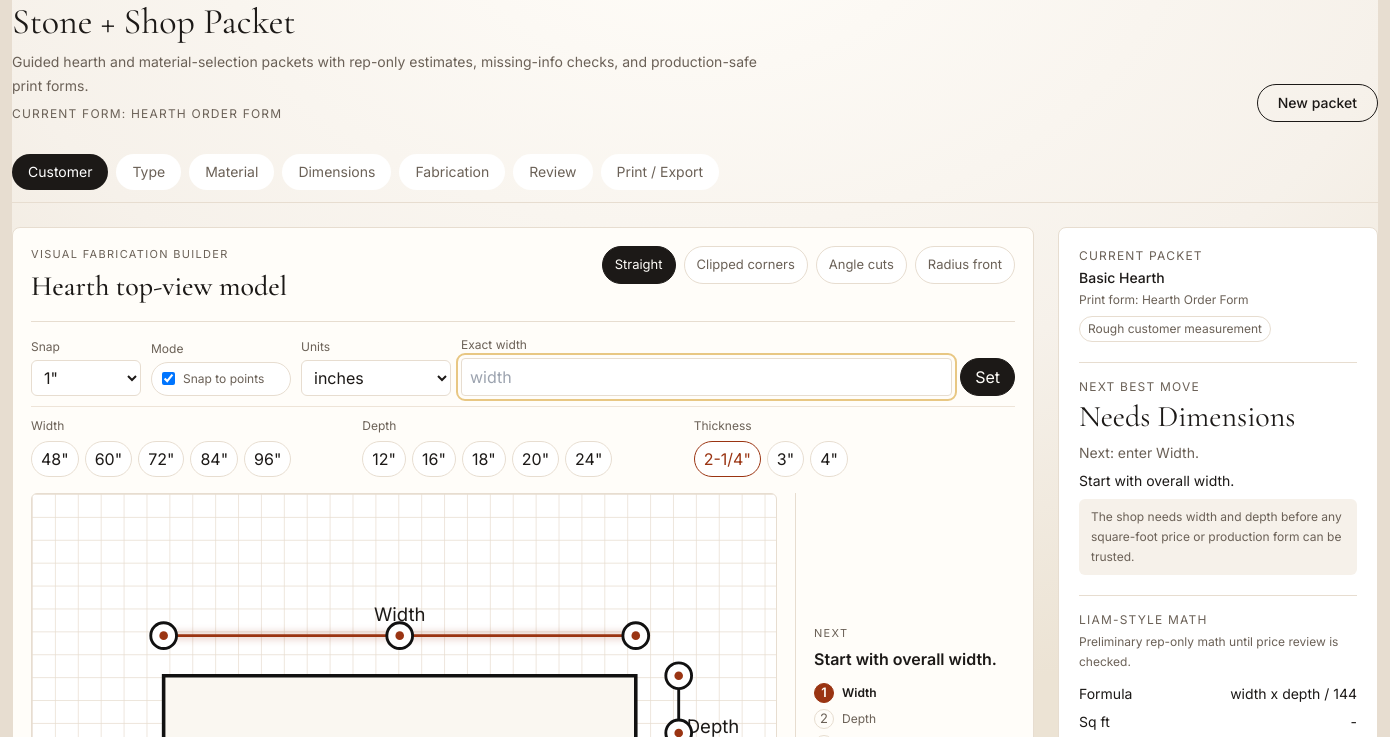
stone shop guided workflow › renders every packet type preset in the helper picker
What coordinates should you click on to do the following:
click the button "Type"
I would click on:
 (149, 172)
Its box is [116,154,181,190].
(page scrolled)
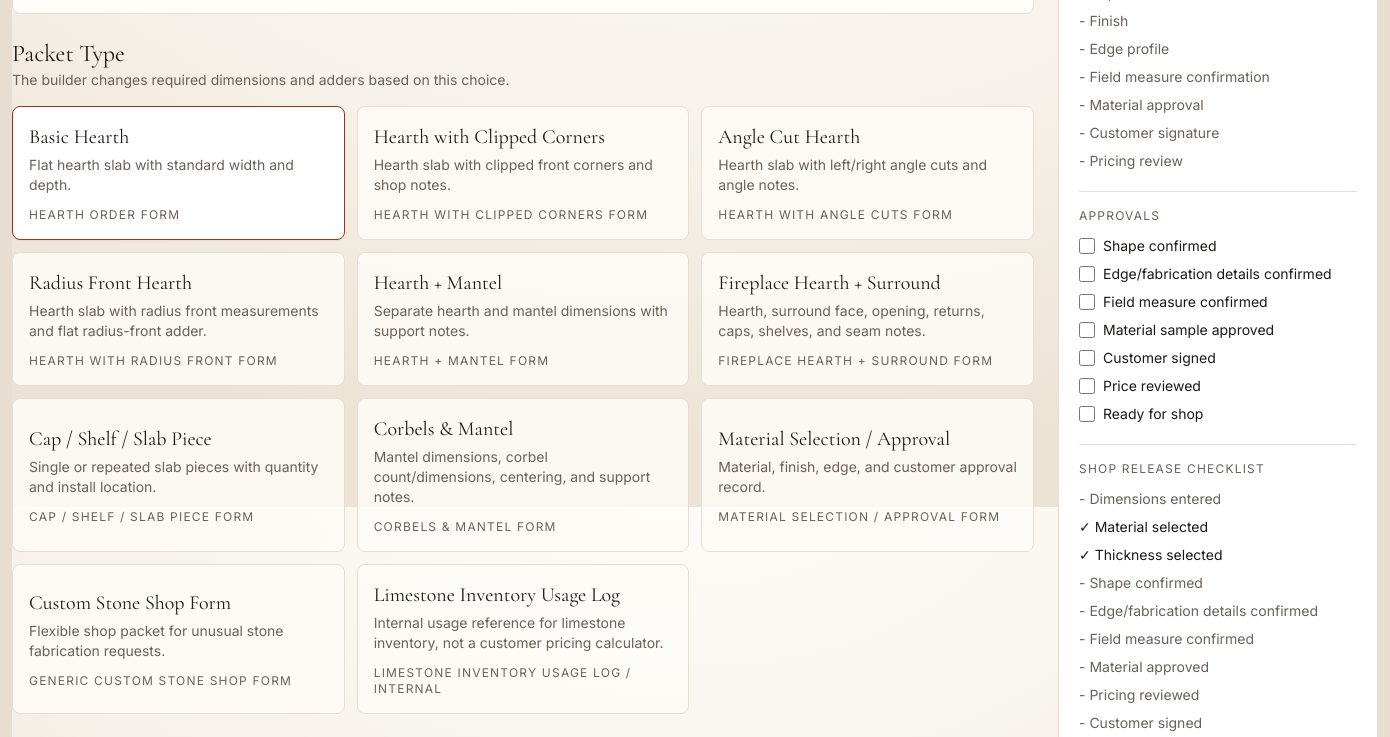
Result: the text "Basic Hearth" is shown at [29,125,129,149]
Result: the text "Hearth with Clipped Corners" is shown at [374,125,605,149]
Result: the text "Angle Cut Hearth" is shown at [718,125,860,149]
